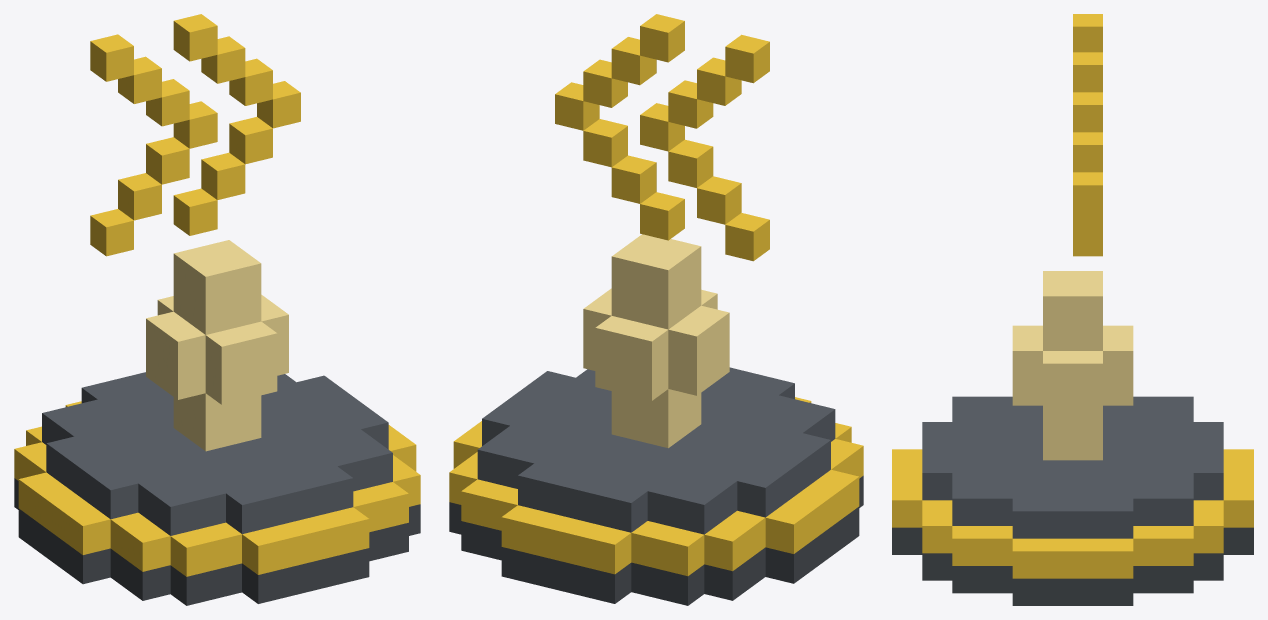
The model's file is prop_buff_speed.glb.
3 renders of one model, left to right at view 1: azimuth 30°, elevation 25°; view 2: azimuth 150°, elevation 25°; view 3: azimuth 270°, elevation 25°, orthographic. The views are drawn at different scales.
Parts seen in each view (by area): view 1: prop_buff_speed; view 2: prop_buff_speed; view 3: prop_buff_speed.
Boxes of the visible parts, left/top/right/bottom form: prop_buff_speed: left=14, top=14, right=420, bottom=605; prop_buff_speed: left=449, top=14, right=863, bottom=605; prop_buff_speed: left=892, top=14, right=1253, bottom=605.
Size of the model in its own units: 0.6 by 0.85 by 0.6.
